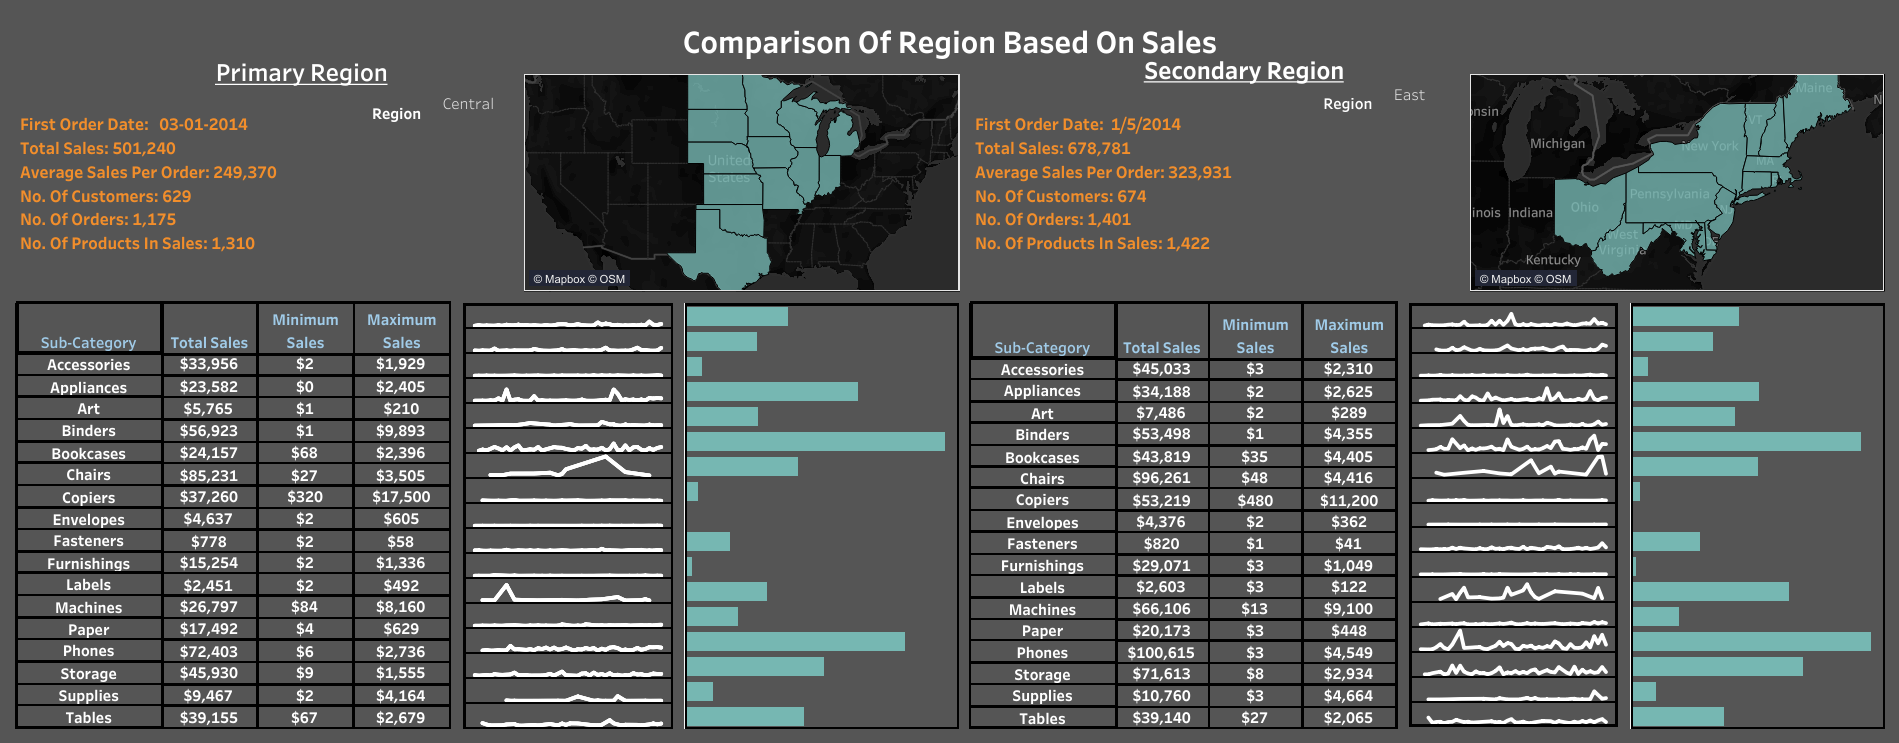

This screenshot's page, from the dashboard's own definition file:
{"tool":"tableau","page":{"name":"Final Dashboard","canvas":[1000,1000],"units":"permille","ordinal":0},"visuals":[{"type":"title","box":[4.8,9.4,990.3,55.2]},{"type":"worksheet","title":"Primary Region ","mark":"Text","box":[4.8,64.6,267.9,317.2]},{"type":"worksheet","title":"Primary Region Map","mark":"Multipolygon","box":[272.7,64.6,235,317.2]},{"type":"worksheet","title":"Secondary Region","mark":"Text","box":[507.7,64.6,263.6,317.2]},{"type":"worksheet","title":"Secondary Region Map","mark":"Multipolygon","box":[771.2,64.6,223.9,317.2]},{"type":"text","box":[100.1,69.3,118,52.9]},{"type":"text","box":[593.2,74,123.4,37.6]},{"type":"parameter","param":"[Parameters].[Region Parameter 2]","box":[685,111.6,81.5,52.9]},{"type":"parameter","param":"[Parameters].[Region Parameter]","box":[184.1,123.2,84.6,56.3]},{"type":"worksheet","title":"Tabular View- Primary Region ","mark":"Automatic","rows":["Sub-Category"],"box":[4.8,381.9,235.3,608.7]},{"type":"worksheet","title":"Line Chart - Primary Region","mark":"Line","rows":["Sub-Category","Sales"],"cols":["Order Date"],"box":[240.2,381.9,116.5,608.7]},{"type":"worksheet","title":"Bar Chart- Primary Region","mark":"Automatic","rows":["Sub-Category"],"cols":["Sales"],"box":[356.6,381.9,150.9,608.7]},{"type":"worksheet","title":"Tabular View - Secondary Region","mark":"Automatic","rows":["Sub-Category"],"box":[507.5,381.9,230.5,608.7]},{"type":"worksheet","title":"Line Chart - Secondary Region","mark":"Line","rows":["Sub-Category","Sales"],"cols":["Order Date"],"box":[738.1,381.9,117.1,608.7]},{"type":"worksheet","title":"Bar Chart Secondary Region","mark":"Automatic","rows":["Sub-Category"],"cols":["Sales"],"box":[855.1,381.9,140,608.7]}]}

Visuals, with their boxes on the dashboard's canvas, which has no fixed pixel size, in thousandths of its width and height (x1, y1, x2, y2). These are canvas units, not pixel positions in the 1899x743 screenshot, which may show the page scaled, cropped or inside an application window:
title: l=5, t=9, r=995, b=65
"Primary Region " worksheet (Text marks): l=5, t=65, r=273, b=382
"Primary Region Map" worksheet (Multipolygon marks): l=273, t=65, r=508, b=382
"Secondary Region" worksheet (Text marks): l=508, t=65, r=771, b=382
"Secondary Region Map" worksheet (Multipolygon marks): l=771, t=65, r=995, b=382
text: l=100, t=69, r=218, b=122
text: l=593, t=74, r=717, b=112
parameter: l=685, t=112, r=766, b=164
parameter: l=184, t=123, r=269, b=180
"Tabular View- Primary Region " worksheet: l=5, t=382, r=240, b=991
"Line Chart - Primary Region" worksheet (Line marks): l=240, t=382, r=357, b=991
"Bar Chart- Primary Region" worksheet: l=357, t=382, r=508, b=991
"Tabular View - Secondary Region" worksheet: l=508, t=382, r=738, b=991
"Line Chart - Secondary Region" worksheet (Line marks): l=738, t=382, r=855, b=991
"Bar Chart Secondary Region" worksheet: l=855, t=382, r=995, b=991
